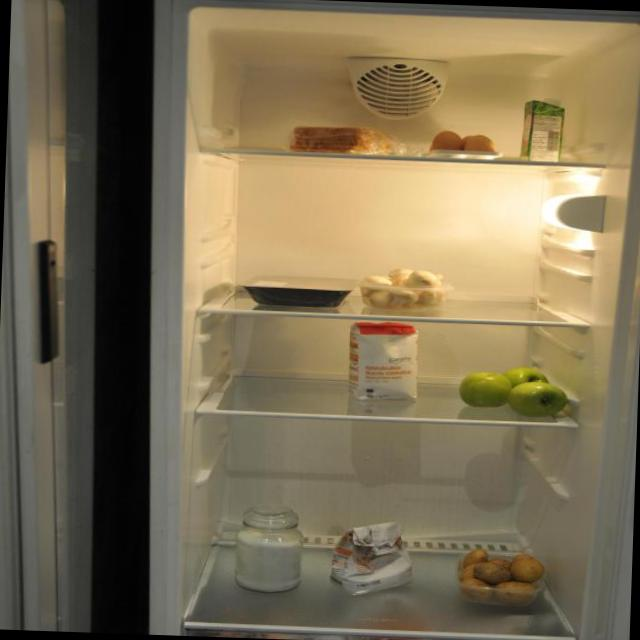Champiñones: (358, 267, 451, 315)
Huevos: (424, 128, 503, 162)
Manzana: (452, 363, 572, 418)
Patata: (454, 544, 548, 608)
bread: (292, 125, 404, 158)
flour: (326, 519, 418, 600)
heavy_cream: (520, 94, 569, 165)
sugar: (232, 504, 306, 594), (346, 320, 418, 402)
